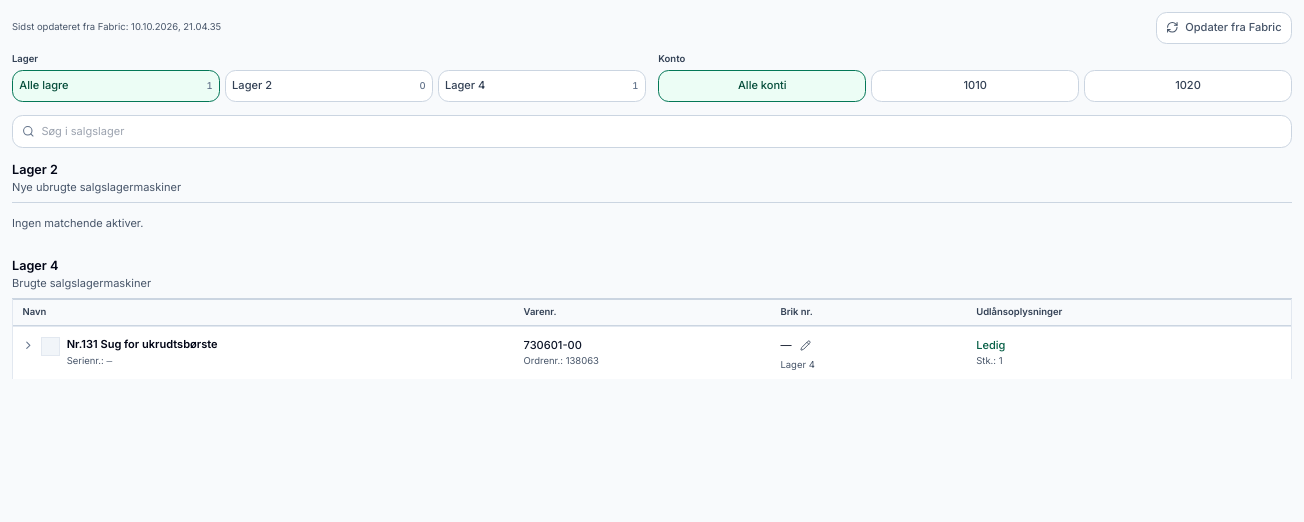
single Fabric stock dataset › shows a non-serialized Backend row without fabricating a serial and blocks it until Brik is assigned
Click the text "Nr.131 Sug for ukrudtsbørste". click: point(142, 344)
box: [67, 338, 218, 352]
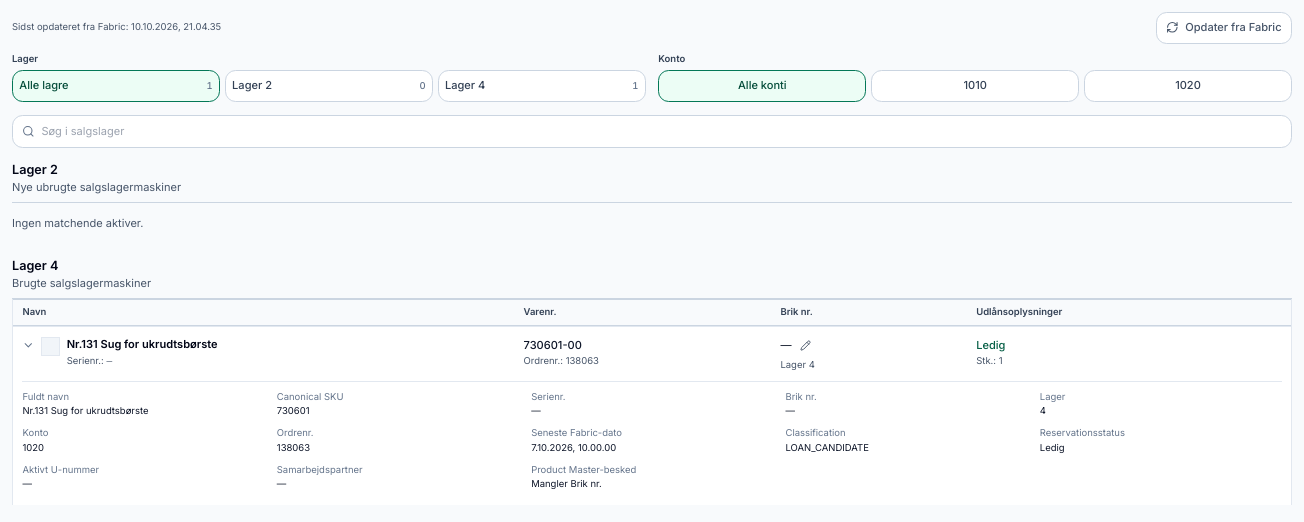
Expected: the button named "Vælg aktiv: 730601-00 #1" is disabled, [41, 338, 60, 356]
Expected: the text "Mangler Brik nr." is shown, [531, 478, 602, 489]
